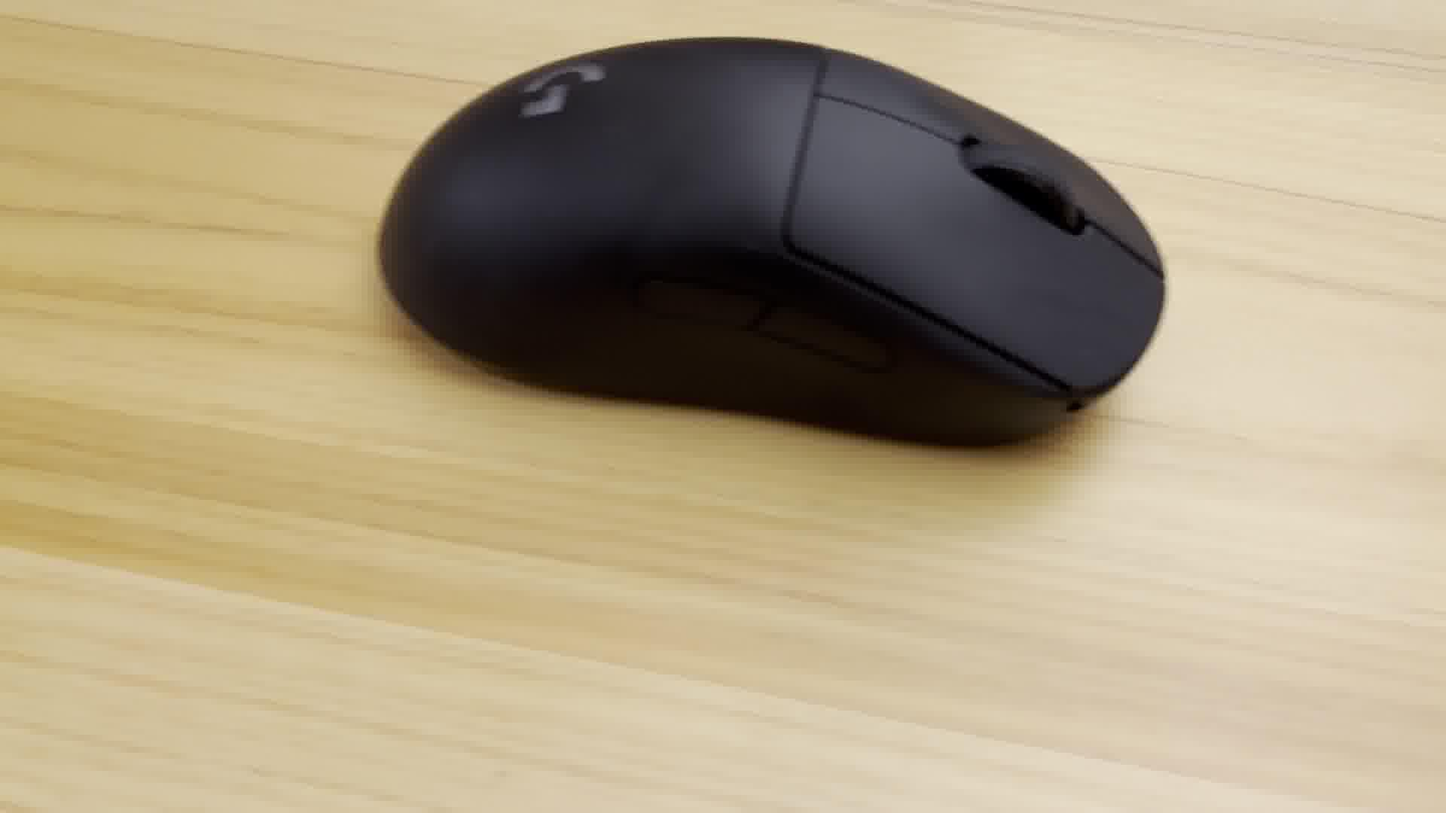logicool: (379, 32, 1166, 458)
